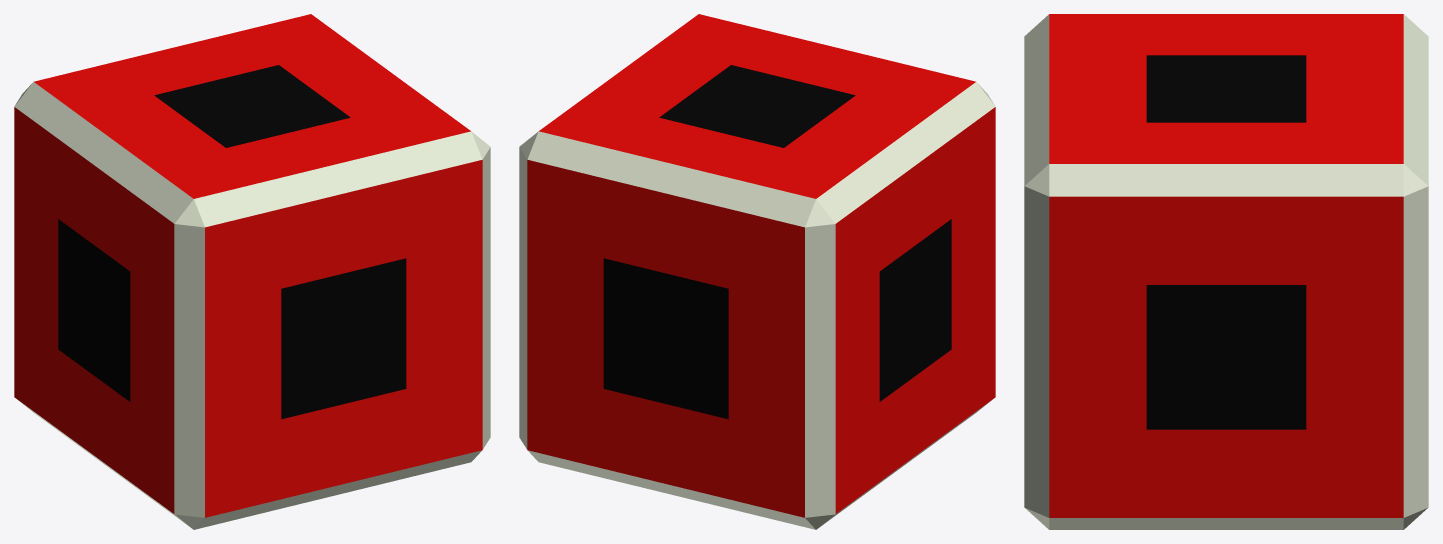
The picture shows the model from 3 angles, left to right: view 1: azimuth 30°, elevation 25°; view 2: azimuth 150°, elevation 25°; view 3: azimuth 270°, elevation 25°; orthographic projection. The views are drawn at different scales.
Parts seen in each view (by area): view 1: Cube.014; view 2: Cube.014; view 3: Cube.014.
Boxes of the visible parts, left/top/right/bottom form: Cube.014: left=14, top=14, right=490, bottom=529; Cube.014: left=519, top=14, right=995, bottom=529; Cube.014: left=1024, top=14, right=1428, bottom=529.
Bounding box in the file's own units: 200 × 200 × 200.
